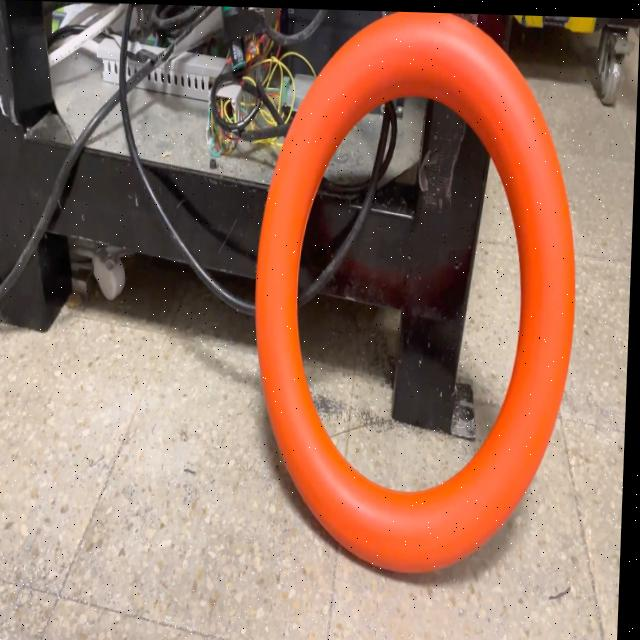note: (247, 9, 588, 579)
